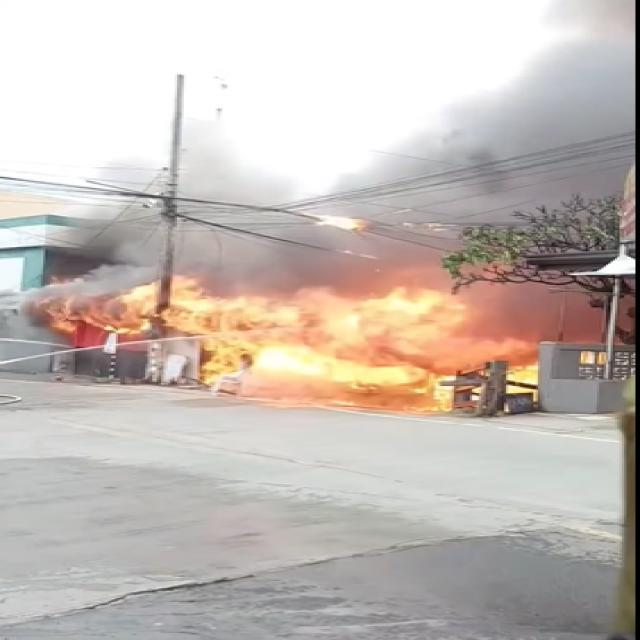Fire: (92, 286, 534, 394)
Smoke: (192, 161, 516, 302), (474, 12, 640, 196)
